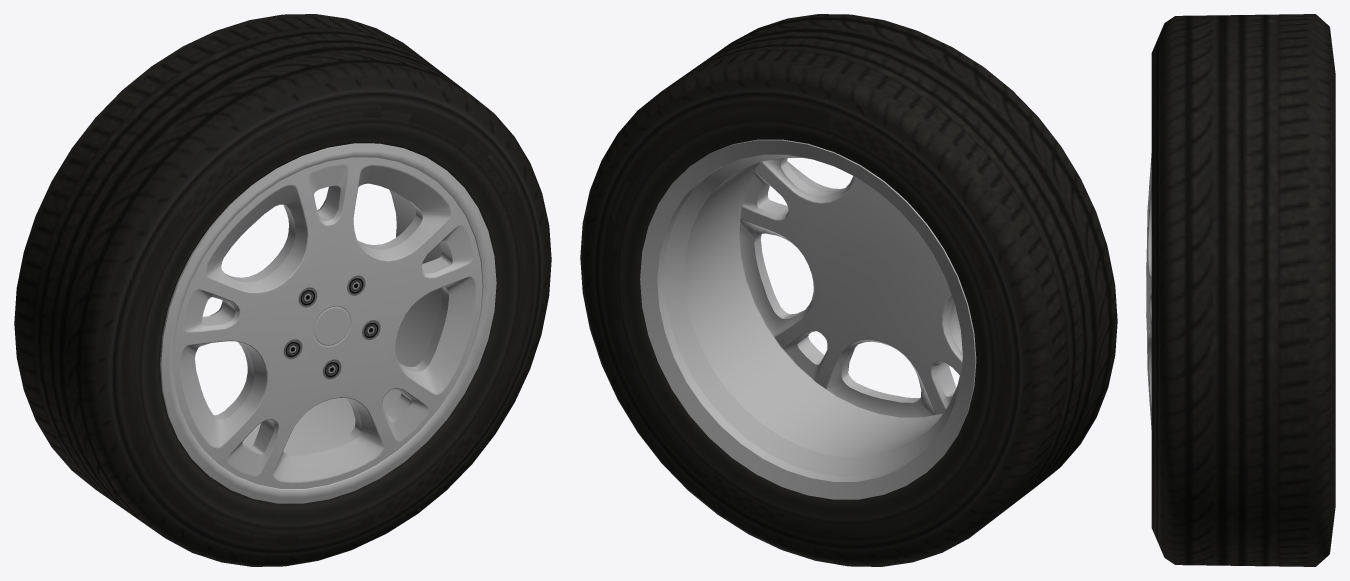
3 renders of one model, left to right at view 1: azimuth 30°, elevation 25°; view 2: azimuth 150°, elevation 25°; view 3: azimuth 270°, elevation 25°, orthographic.
Parts seen in each view (by area): view 1: P353_20_901B_R_P353_20_901B_R_1_DM, P353_20_901B_R_2_DaS_P353_20_901B_R, P353_20_901B_R_P353_20_901B_R_3_D; view 2: P353_20_901B_R_P353_20_901B_R_1_DM, P353_20_901B_R_2_DaS_P353_20_901B_R; view 3: P353_20_901B_R_P353_20_901B_R_1_DM, P353_20_901B_R_2_DaS_P353_20_901B_R.
Part boxes in pixels (bbox=[...]): P353_20_901B_R_P353_20_901B_R_1_DM: bbox=[14, 14, 551, 566]; P353_20_901B_R_2_DaS_P353_20_901B_R: bbox=[160, 143, 496, 503]; P353_20_901B_R_P353_20_901B_R_3_D: bbox=[283, 275, 380, 379]; P353_20_901B_R_P353_20_901B_R_1_DM: bbox=[580, 14, 1117, 566]; P353_20_901B_R_2_DaS_P353_20_901B_R: bbox=[640, 139, 976, 499]; P353_20_901B_R_P353_20_901B_R_1_DM: bbox=[1151, 14, 1335, 566]; P353_20_901B_R_2_DaS_P353_20_901B_R: bbox=[1146, 153, 1151, 429].
Bounding box in the file's own units: 70.07 × 70.07 × 23.98.
